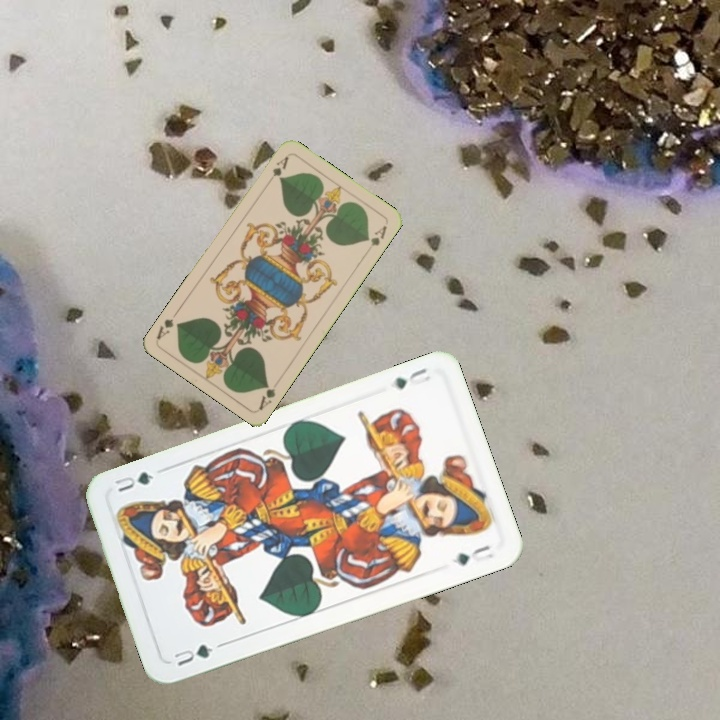GA: (255, 380, 278, 412), (269, 152, 291, 182)
GU: (170, 640, 216, 669), (389, 364, 433, 392)
